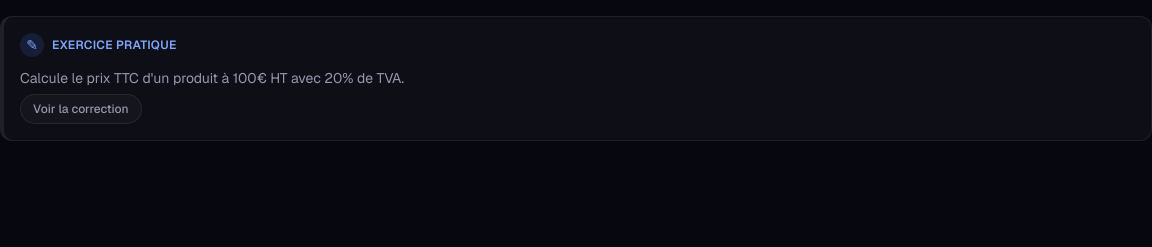
Scenario: ExerciseBlock (vrai code, DOM réel) › révèle la correction après un clic, puis la masque à nouveau après un second clic
The width and height of the screenshot is (1152, 247).
Step 1. Click the button "Voir la correction" → (81, 109), box top-left (20, 94), bottom-right (142, 124)
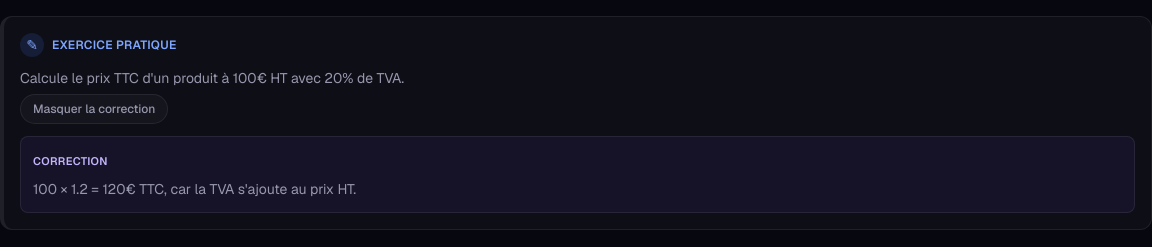
Check: the text "120€ TTC" is shown, box top-left (33, 180), bottom-right (356, 198)
Check: the text "Masquer la correction" is shown
Check: the button "Masquer la correction" is expanded
Step 2. Click the button "Masquer la correction" → (94, 109), box top-left (20, 94), bottom-right (168, 124)
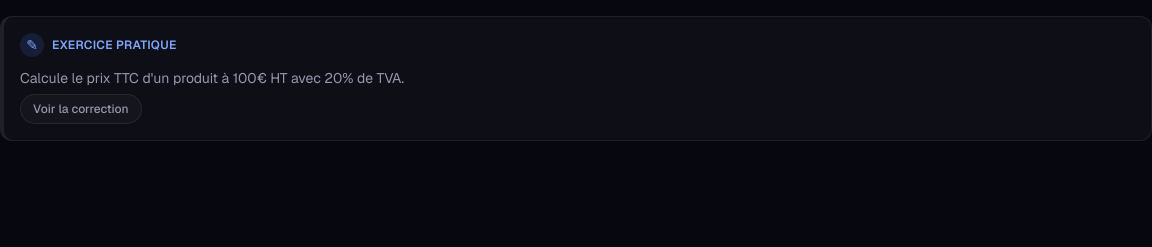
Check: the text "120€ TTC" is gone
Check: the text "Voir la correction" is shown, box top-left (20, 94), bottom-right (142, 124)
Check: the button "Voir la correction" is collapsed, box top-left (20, 94), bottom-right (142, 124)
